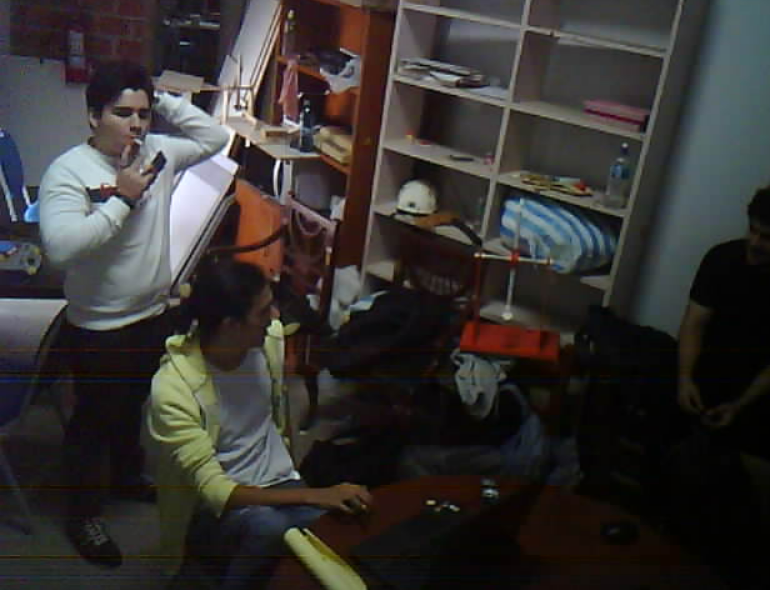person: (13, 29, 230, 579), (134, 248, 386, 590), (671, 158, 770, 530)
